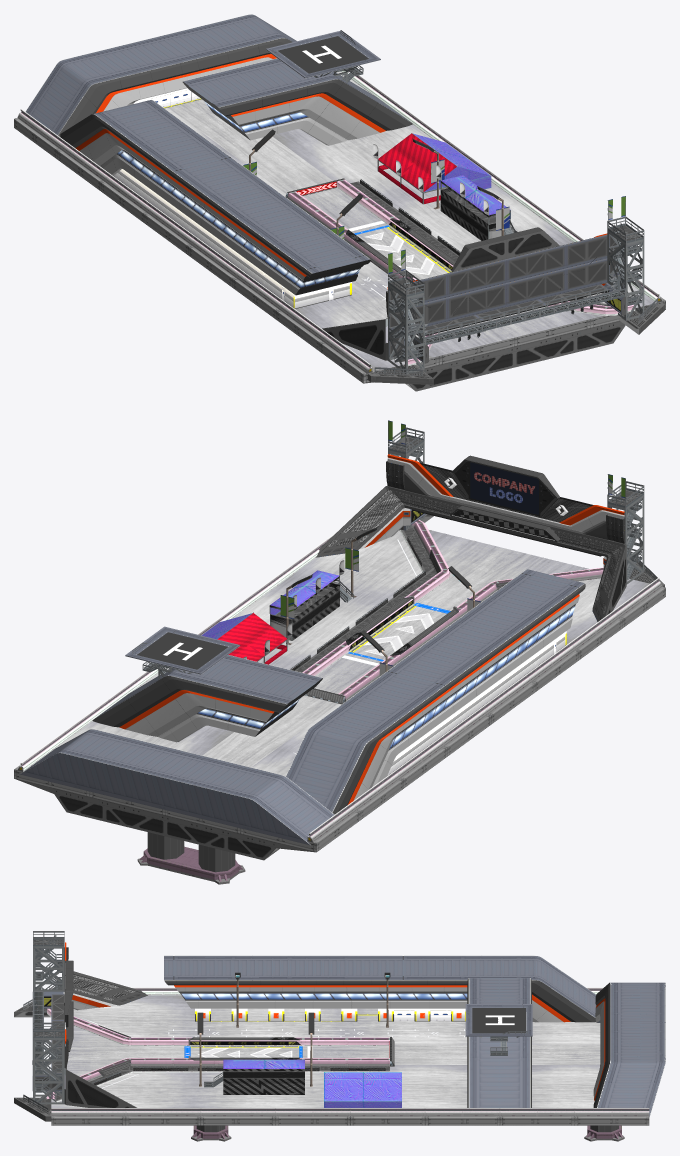
Rendered from Start_Track.fbx.
3 renders of one model, top to bottom at view 1: azimuth 30°, elevation 25°; view 2: azimuth 150°, elevation 25°; view 3: azimuth 270°, elevation 25°, orthographic. The views are drawn at different scales.
Visible parts, largest first — view 1: gate_buildings, straight_road, SmartCombine_0, wall_straight_elevated, gat_sta_start_detail, prop_tent, prop_tent2, barriers, boost; view 2: gate_buildings, straight_road, SmartCombine_0, wall_straight_elevated, barriers, gat_sta_start_detail, prop_tent2, boost, prop_tent, support_pylon_1, support_ground_1; view 3: gate_buildings, straight_road, SmartCombine_0, wall_straight_elevated, barriers, gat_sta_start_detail, prop_tent2, prop_tent, boost, support_ground, support_ground_1.
Part boxes in pixels (x1,y1,x2,y2): gate_buildings: (25, 14, 664, 384); straight_road: (165, 71, 655, 371); SmartCombine_0: (14, 118, 665, 391); wall_straight_elevated: (17, 70, 662, 373); gat_sta_start_detail: (348, 179, 657, 375); prop_tent: (373, 133, 491, 204); prop_tent2: (436, 165, 517, 240); barriers: (287, 179, 635, 365); boost: (346, 219, 456, 277); gate_buildings: (19, 427, 664, 845); straight_road: (28, 530, 649, 776); SmartCombine_0: (14, 587, 665, 860); wall_straight_elevated: (17, 530, 662, 842); barriers: (302, 519, 603, 701); gat_sta_start_detail: (290, 420, 657, 753); prop_tent2: (269, 560, 353, 640); boost: (346, 549, 508, 661); prop_tent: (201, 612, 292, 664); support_pylon_1: (147, 832, 235, 872); support_ground_1: (137, 846, 245, 884); gate_buildings: (14, 931, 665, 1121); straight_road: (51, 995, 600, 1107); SmartCombine_0: (51, 1116, 649, 1125); wall_straight_elevated: (51, 987, 649, 1116); barriers: (46, 1008, 389, 1102); gat_sta_start_detail: (23, 935, 465, 1113); prop_tent2: (204, 1059, 304, 1094); prop_tent: (324, 1072, 401, 1107); boost: (98, 1024, 302, 1076); support_ground: (191, 1125, 231, 1141); support_ground_1: (584, 1125, 624, 1141).
Bounding box in the file's own units: 6400 × 3763 × 13950.
